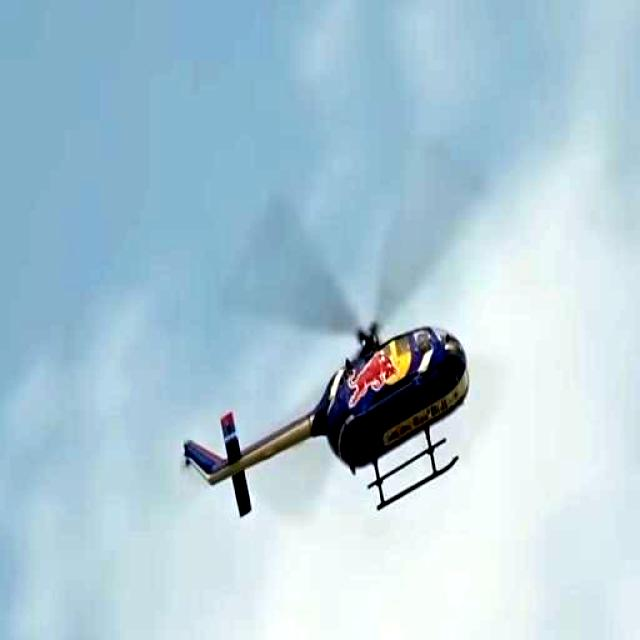drone: (178, 268, 479, 542)
